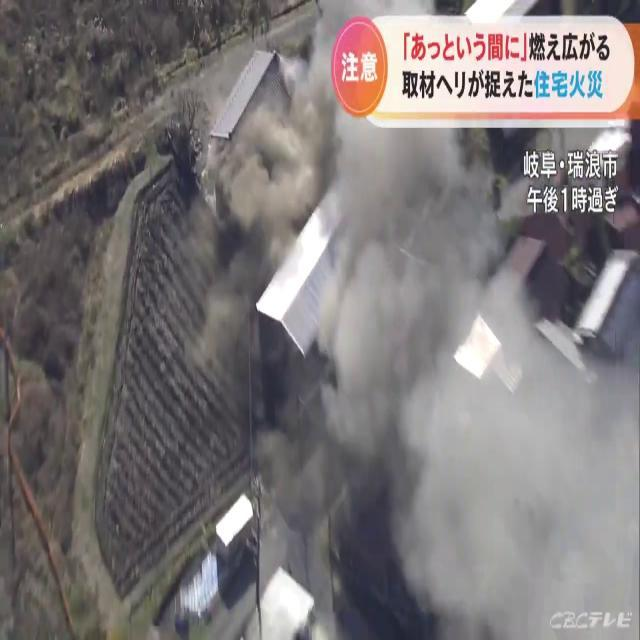Smoke: (204, 14, 538, 623)
